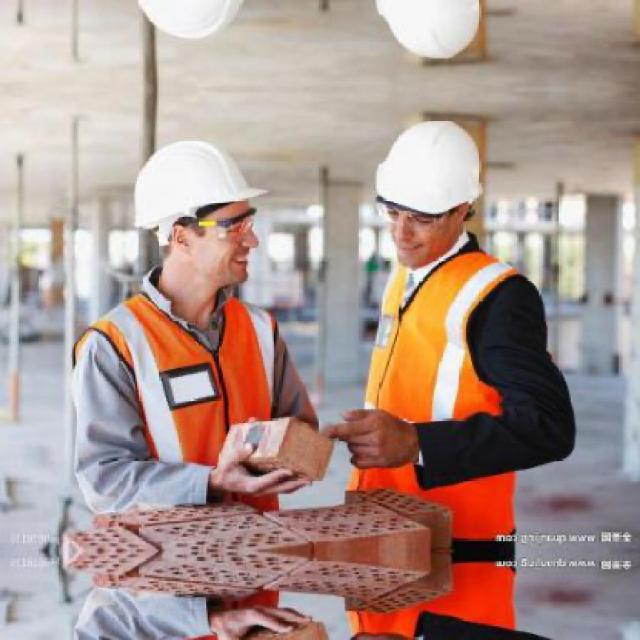helmet: (123, 124, 279, 310), (360, 106, 494, 269), (360, 0, 495, 71), (123, 0, 280, 52)
